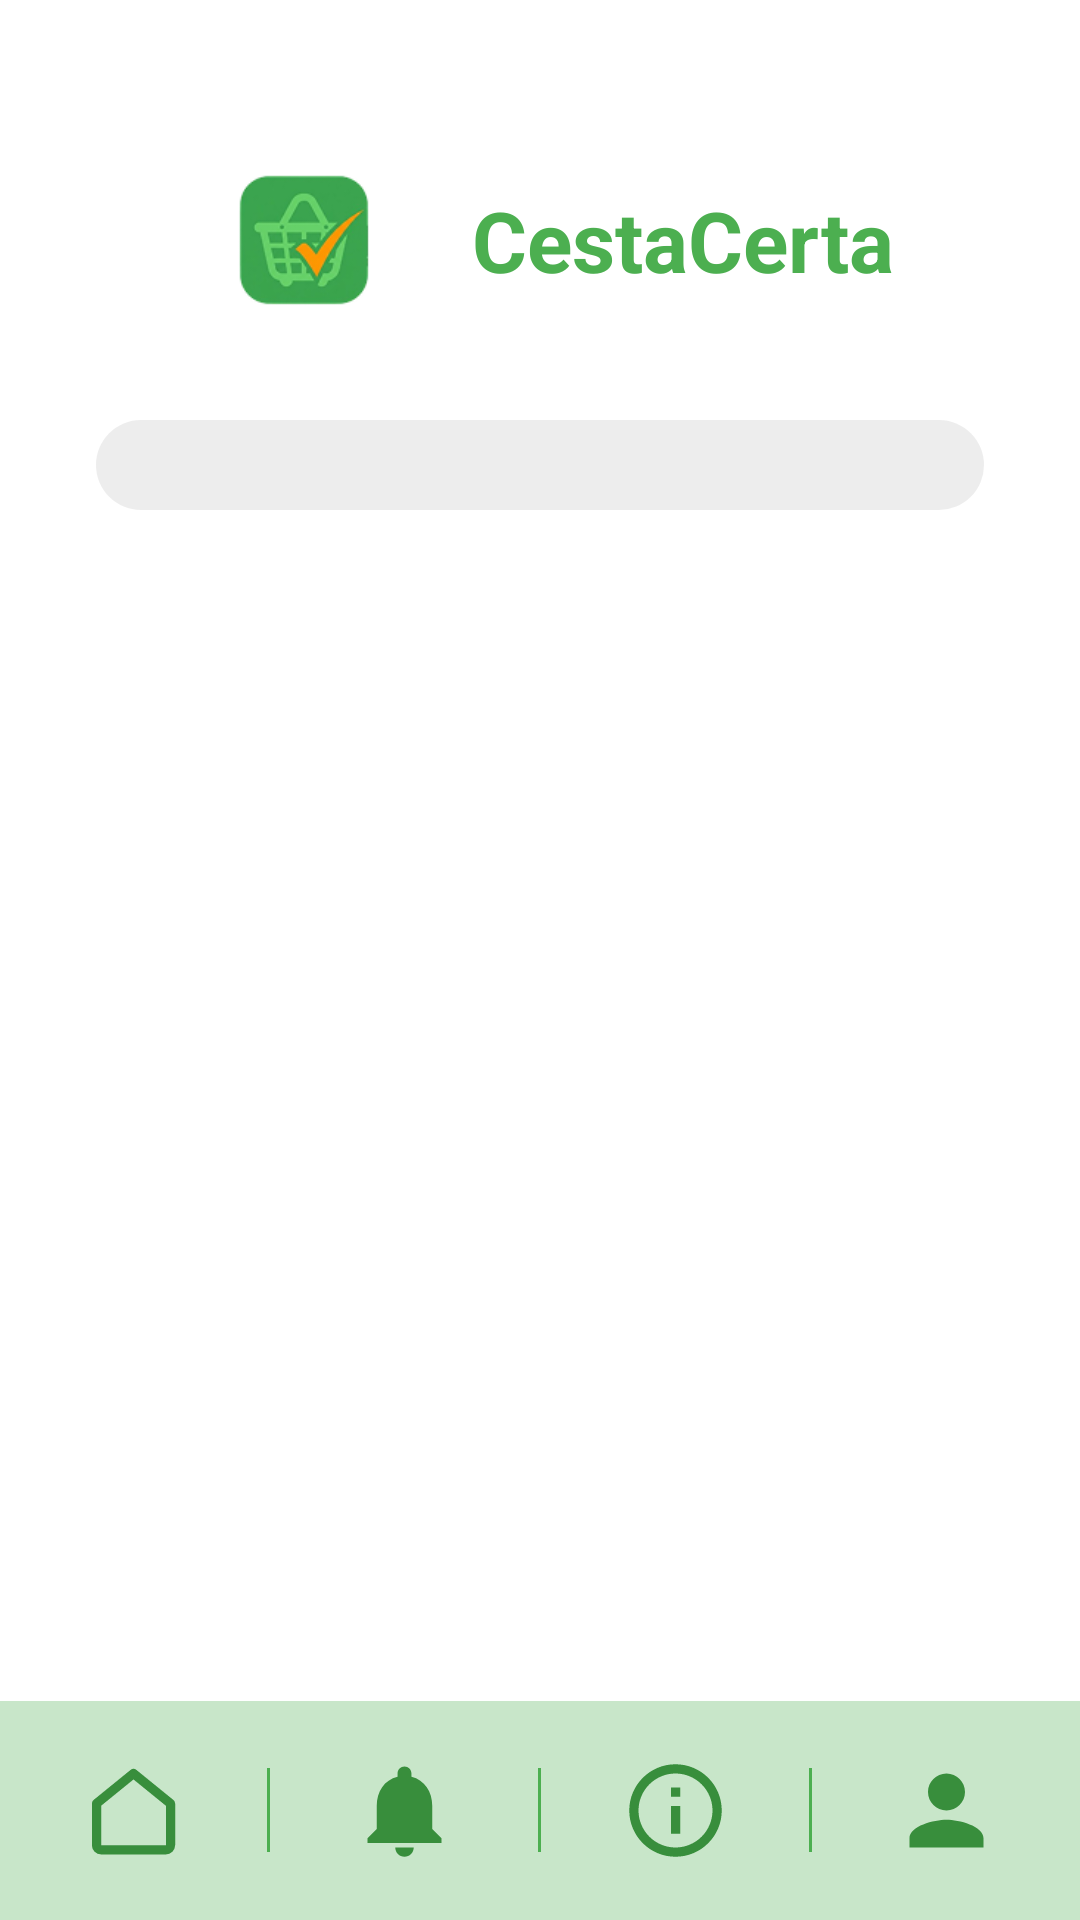

Screen size 1080*1920. Icon name, then its box in pixels as (x1, y1, x2, y2):
Início: (92, 1768, 176, 1855)
Notificações: (367, 1766, 442, 1857)
Perfil: (909, 1773, 984, 1848)
Sobre nós: (629, 1764, 722, 1857)
